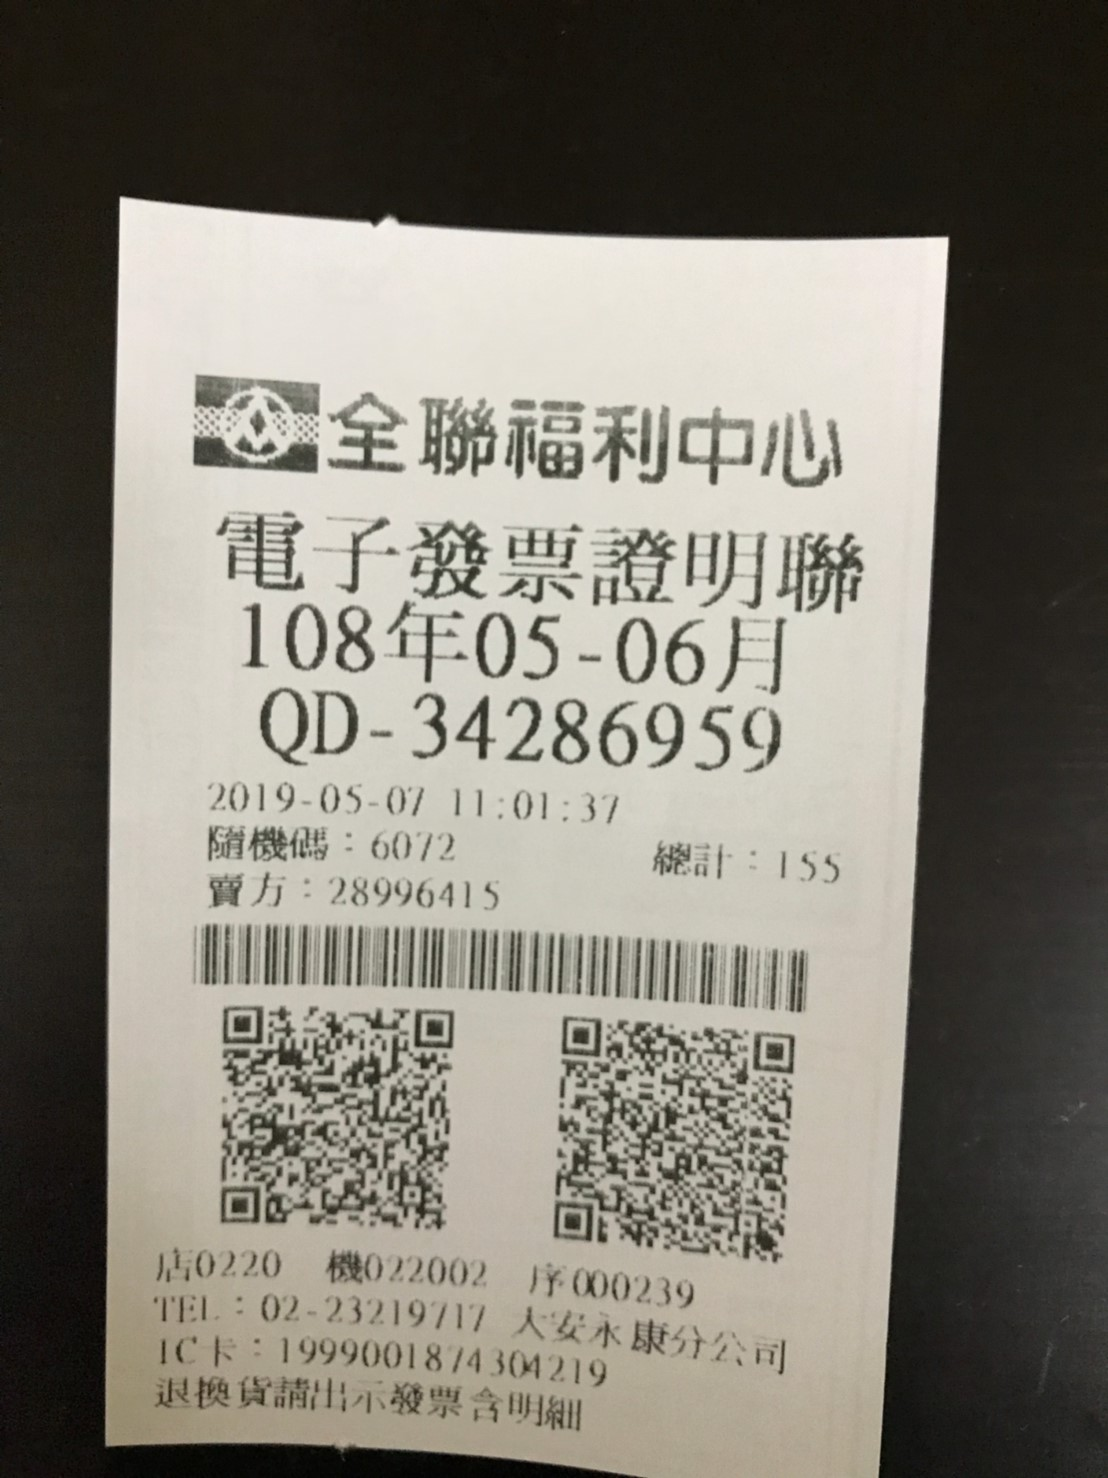Date_New: (237, 597, 789, 701)
Number_New: (405, 684, 783, 777)
